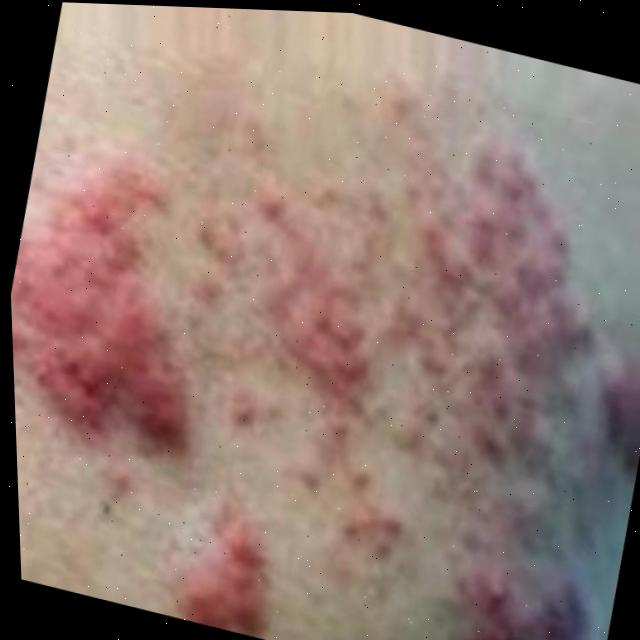Shingles: (1, 36, 640, 640)
